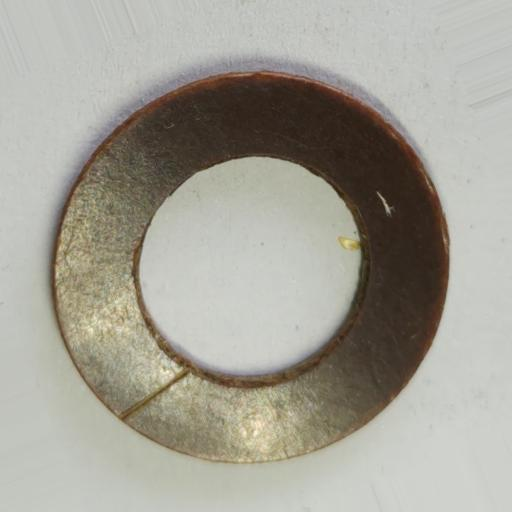defect: (118, 369, 191, 421)
